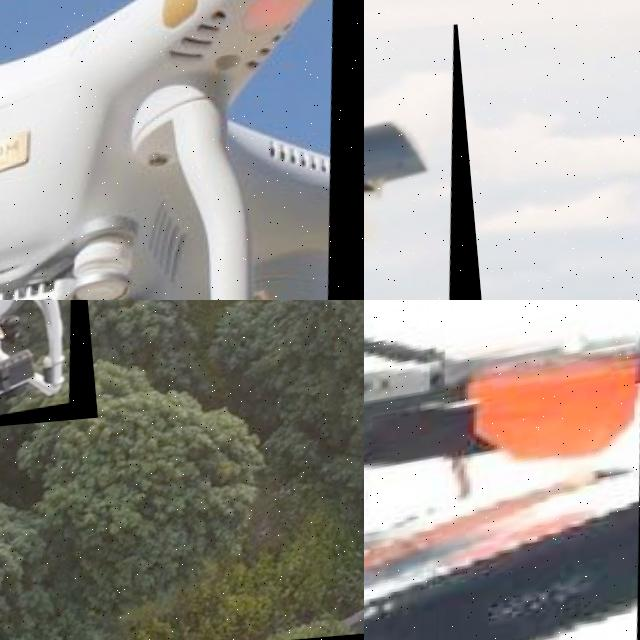drone: (0, 0, 364, 300), (364, 300, 640, 640), (364, 24, 485, 300), (0, 300, 98, 434)
